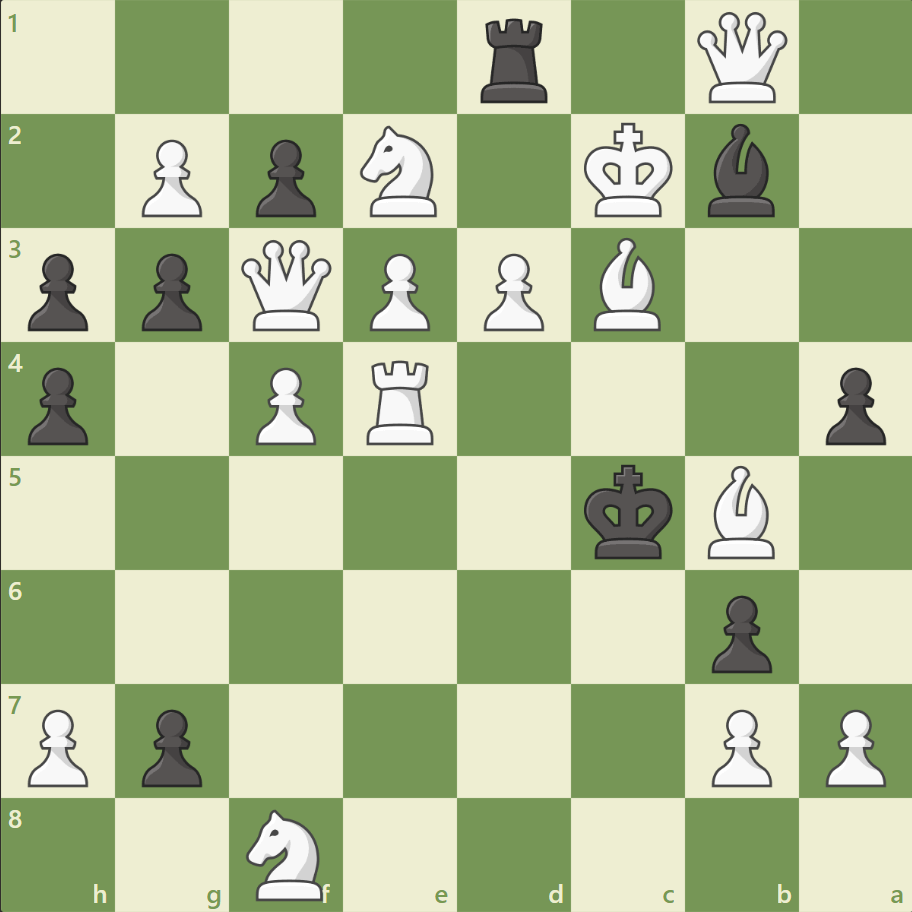B: (698, 460, 782, 563), (585, 233, 669, 336)
K: (579, 117, 679, 225)
N: (351, 121, 449, 223), (238, 802, 335, 904)
P: (701, 700, 776, 791), (20, 700, 95, 791), (247, 359, 322, 450), (474, 246, 549, 337), (133, 132, 208, 223), (815, 700, 889, 791), (361, 246, 435, 337)
Q: (237, 236, 336, 335), (691, 9, 790, 108)
R: (360, 352, 442, 449)
b: (698, 120, 782, 222)
k: (579, 458, 679, 566)
p: (133, 700, 208, 791), (701, 586, 776, 677), (20, 359, 95, 450), (133, 246, 208, 337), (20, 246, 95, 337), (247, 132, 322, 223), (815, 359, 889, 450)
r: (473, 12, 556, 109)
